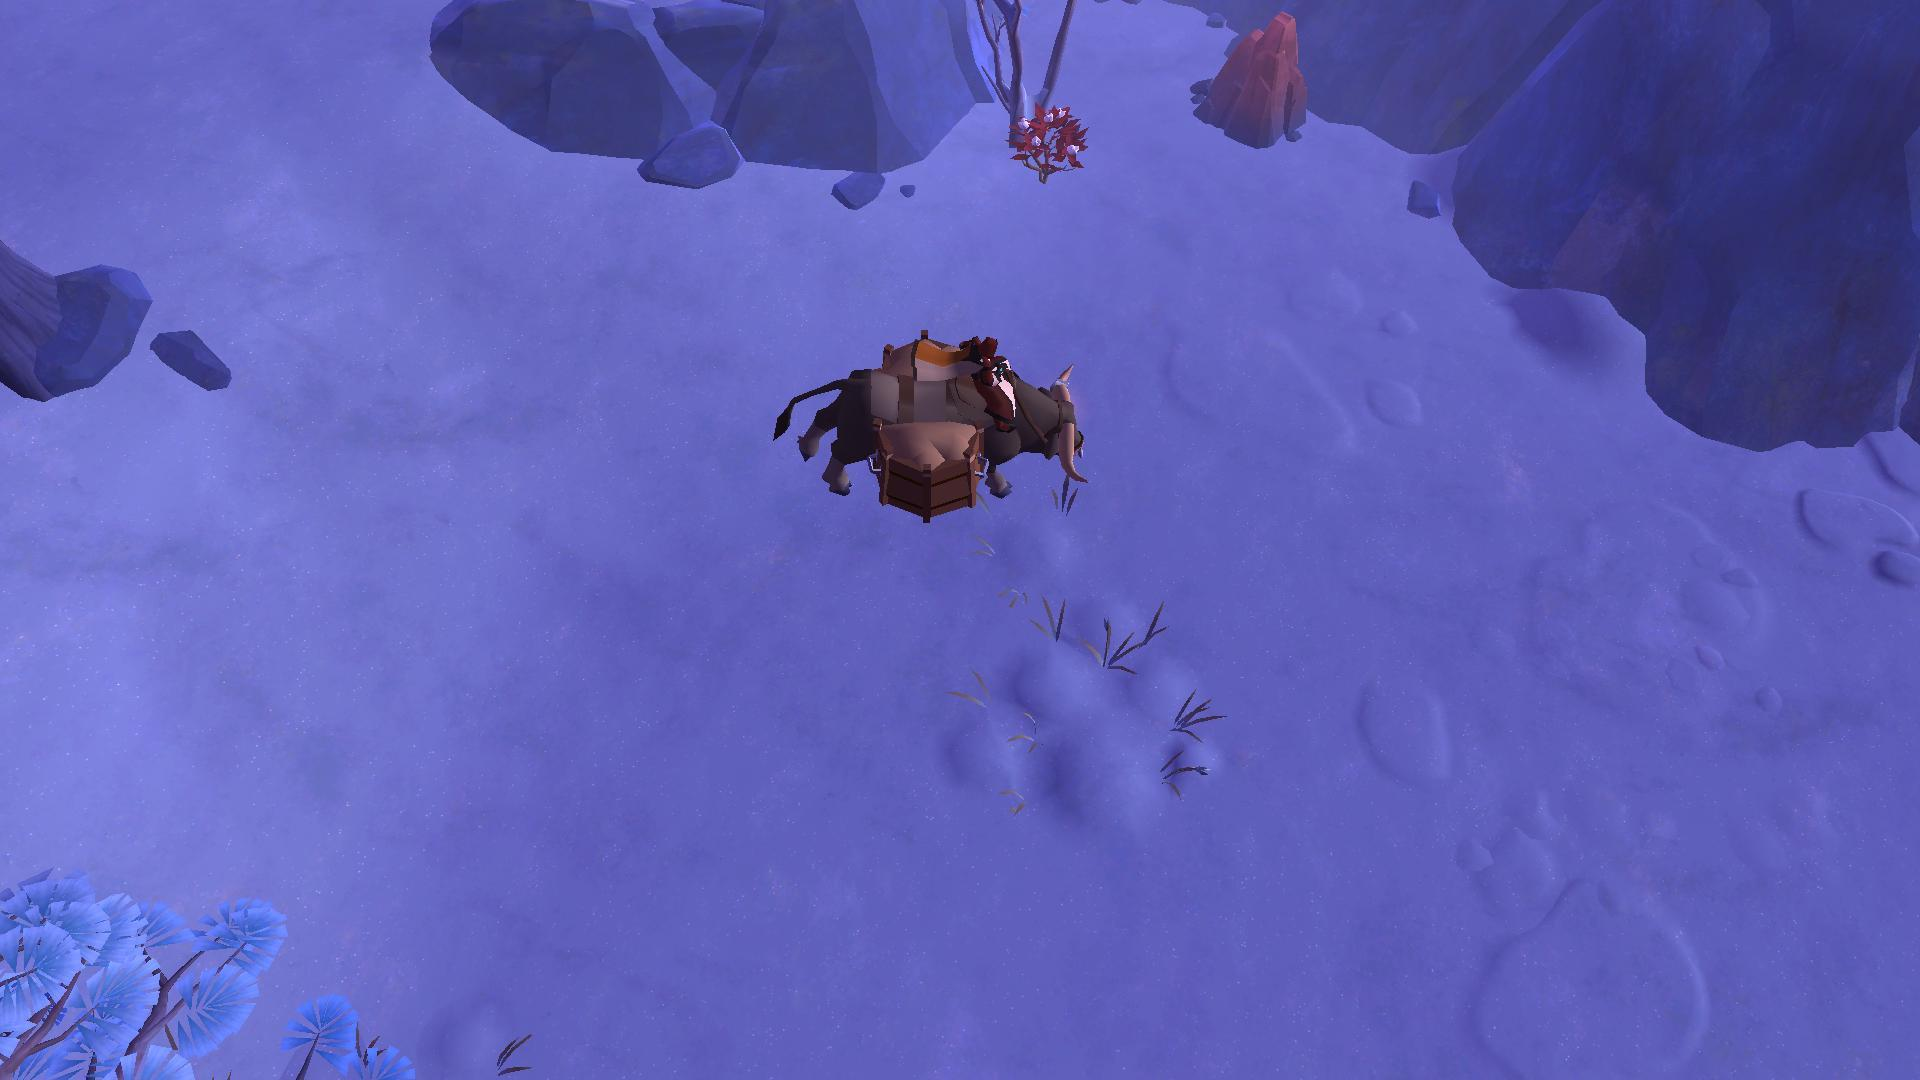fiber_t5: (1000, 102, 1088, 181)
rock_t5: (1179, 12, 1311, 156)
